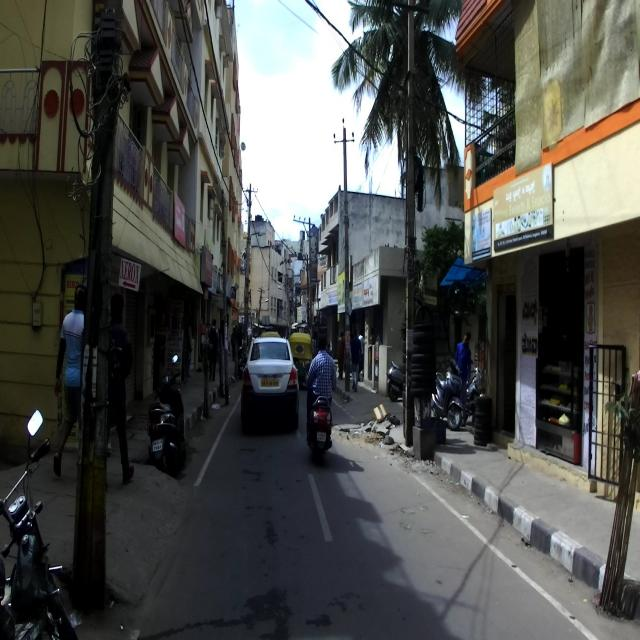car: (241, 336, 299, 434)
motorcycle: (0, 407, 78, 639)
scooter: (145, 354, 186, 477), (302, 359, 337, 467), (430, 358, 464, 430)
